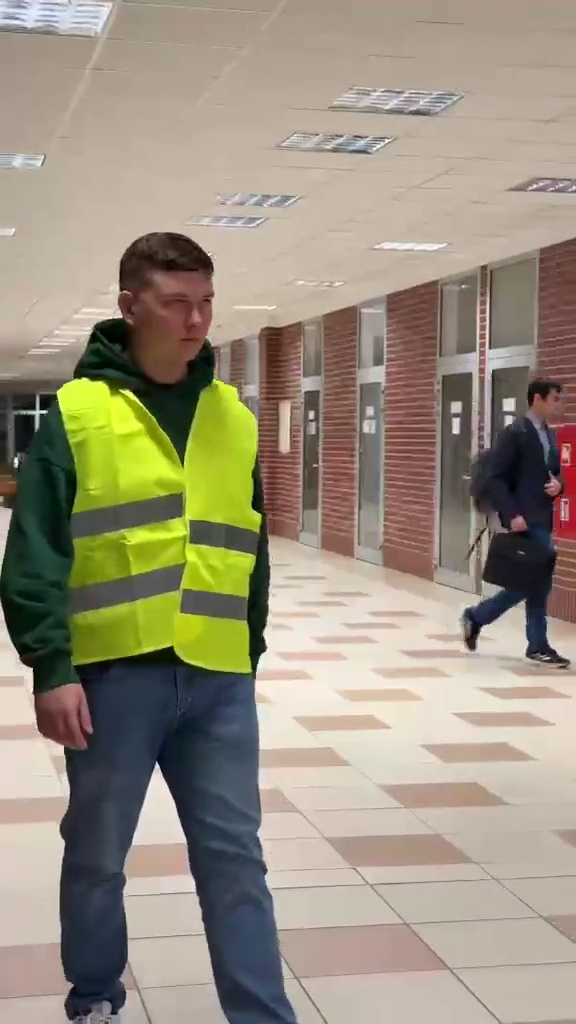no vest: (457, 376, 567, 667)
vest: (3, 224, 297, 1010)
